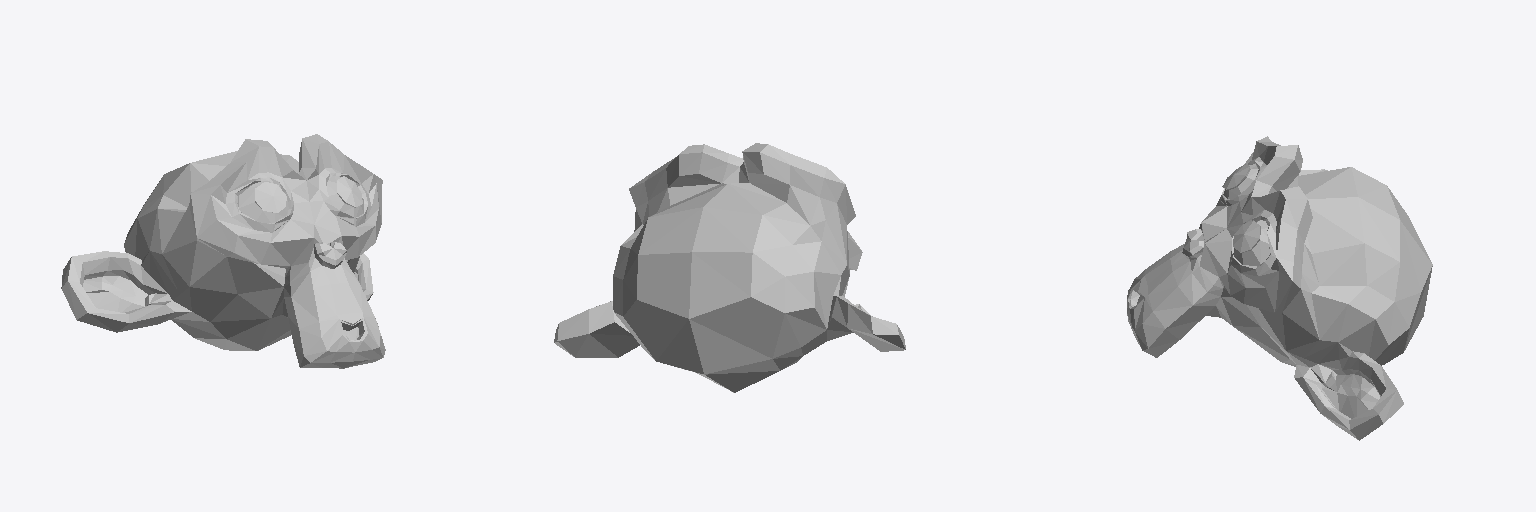
Rendered from suzanne2.obj.
3 renders of one model, left to right at view 1: azimuth 30°, elevation 25°; view 2: azimuth 150°, elevation 25°; view 3: azimuth 270°, elevation 25°, orthographic.
Parts seen in each view (by area): view 1: Suzanne.001; view 2: Suzanne.001; view 3: Suzanne.001.
Boxes of the visible parts, x1,y1,x2,y2 form: Suzanne.001: [61, 134, 385, 368]; Suzanne.001: [554, 143, 905, 392]; Suzanne.001: [1127, 136, 1432, 440].
Bounding box in the file's own units: 950 × 617 × 773.